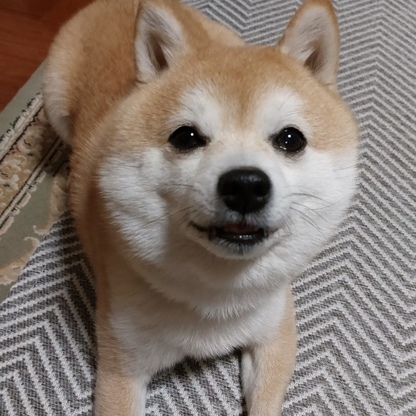shiba: (36, 1, 366, 416)
